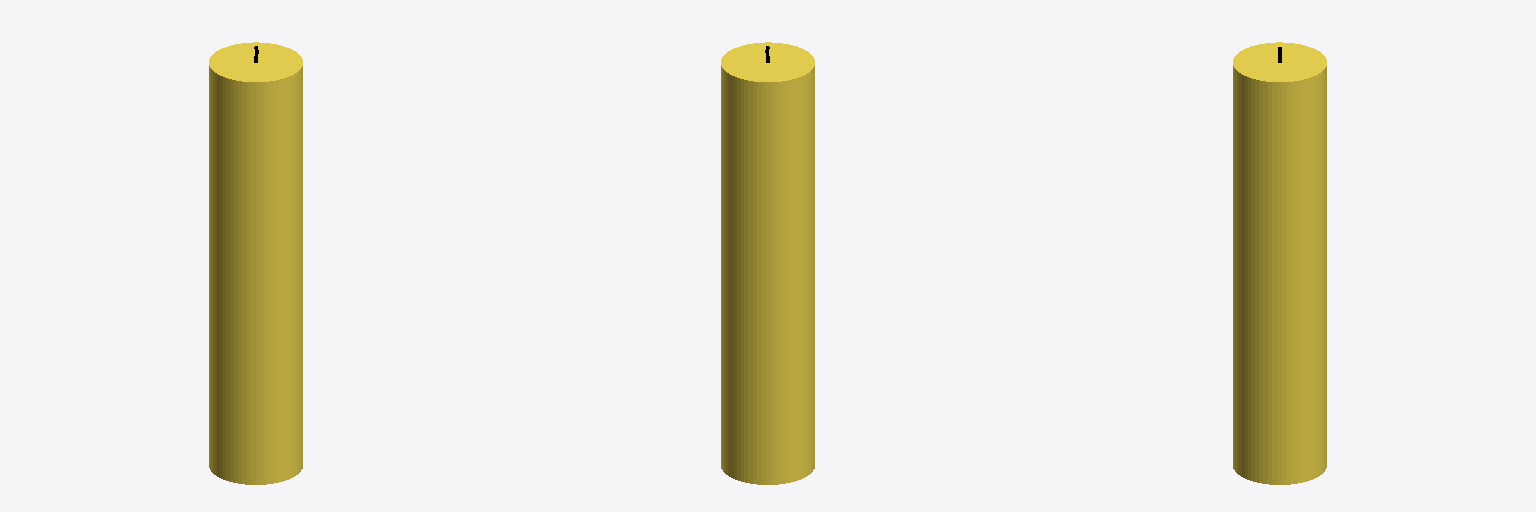
The model's file is CandleStick.obj.
The picture shows the model from 3 angles: view 1: azimuth 30°, elevation 25°; view 2: azimuth 150°, elevation 25°; view 3: azimuth 270°, elevation 25°; orthographic projection.
Parts seen in each view (by area): view 1: Cylinder; view 2: Cylinder; view 3: Cylinder.
Part boxes in pixels (bbox=[...]): Cylinder: bbox=[209, 42, 302, 484]; Cylinder: bbox=[721, 42, 814, 484]; Cylinder: bbox=[1233, 42, 1326, 484].
Size of the model in its own units: 1.07 by 5.24 by 1.07.